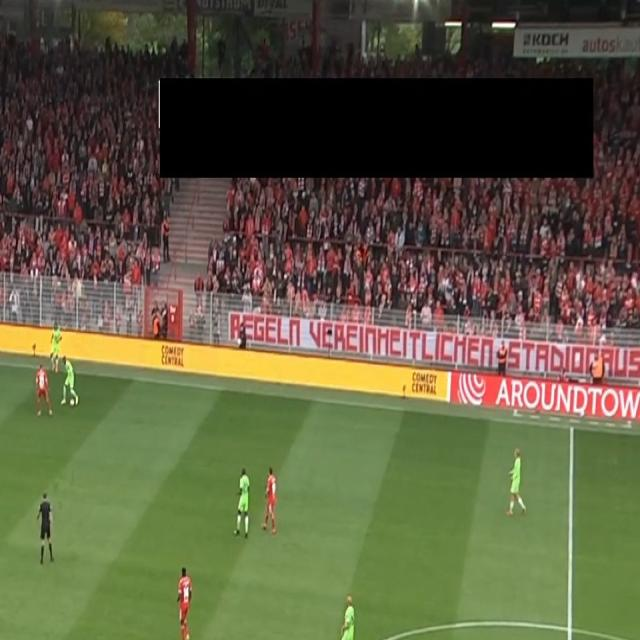ball: (69, 398, 75, 408)
